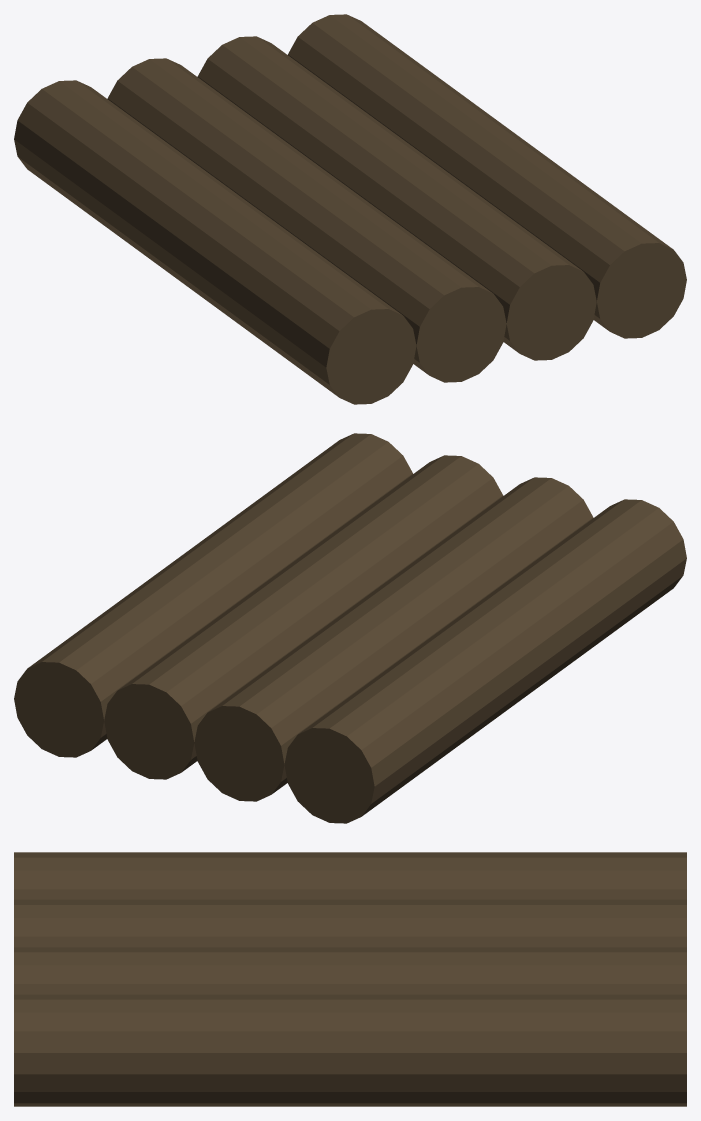
File: raft1.fbx
3 views of the same model, one above another, from view 1: azimuth 30°, elevation 25°; view 2: azimuth 150°, elevation 25°; view 3: azimuth 270°, elevation 25° (orthographic). The views are drawn at different scales.
Parts seen in each view (by area): view 1: Raft1; view 2: Raft1; view 3: Raft1.
Part boxes in pixels (bbox=[...]): Raft1: bbox=[14, 14, 686, 404]; Raft1: bbox=[14, 433, 686, 823]; Raft1: bbox=[14, 852, 686, 1106].
Size of the model in its own units: 200 by 50 by 300.
